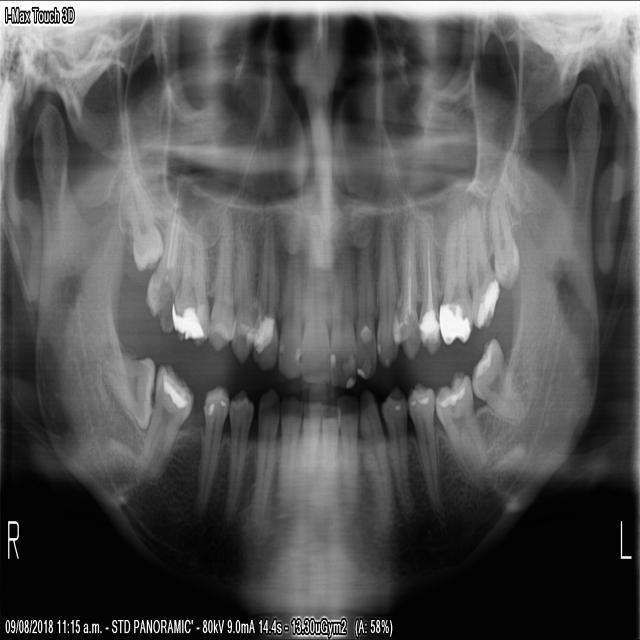LCD: (355, 383, 394, 539)
LCU: (372, 203, 401, 373)
LID: (332, 388, 359, 514), (317, 401, 340, 500)
LIU: (328, 240, 356, 391), (354, 235, 377, 380)
LMD: (432, 365, 488, 485), (468, 329, 527, 433)
LMU: (464, 193, 501, 337), (436, 207, 472, 351), (485, 178, 522, 292)
LPMD: (403, 373, 445, 519), (379, 380, 415, 528)
LPMU: (390, 202, 422, 362), (417, 200, 443, 360)
RCD: (251, 380, 281, 528)
RCU: (248, 204, 278, 375)
RID: (274, 390, 303, 509), (296, 389, 324, 483)
RIU: (296, 206, 332, 391), (274, 205, 304, 384)
RMD: (129, 358, 195, 489), (94, 348, 156, 432)
RMU: (143, 173, 187, 339), (166, 193, 210, 349), (118, 159, 163, 277)
RPMD: (190, 383, 230, 522), (218, 383, 255, 533)
RPMU: (204, 199, 237, 359), (228, 203, 256, 367)
